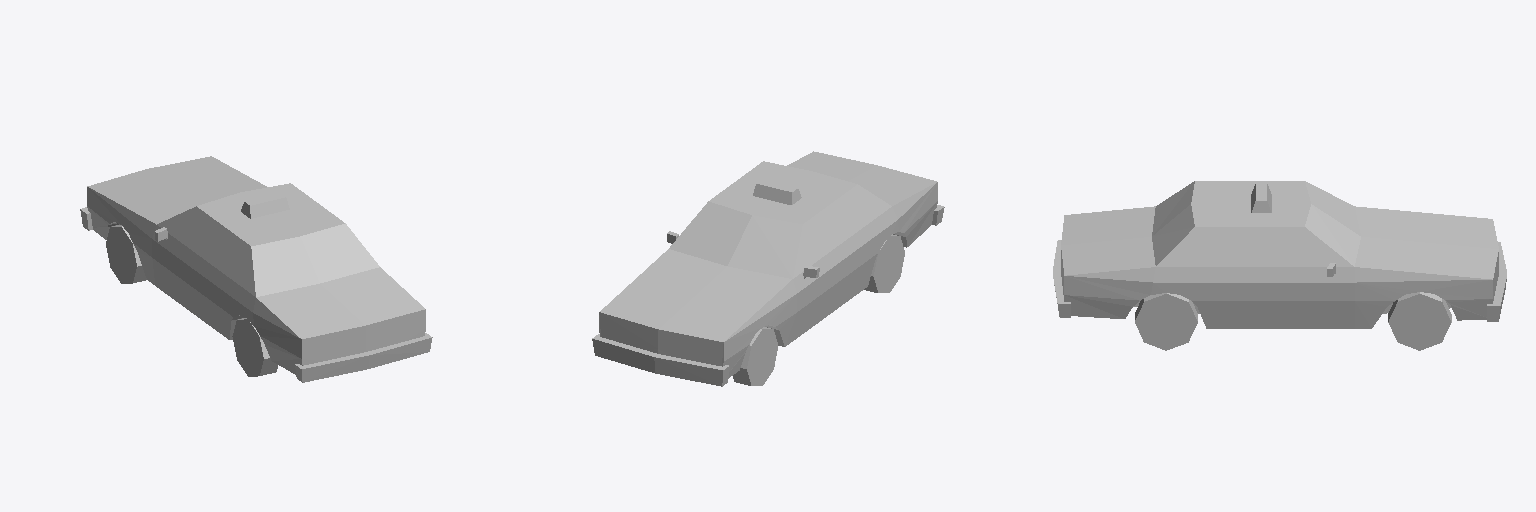
The model's file is Car5Taxi_o3.obj.
The picture shows the model from 3 angles: view 1: azimuth 30°, elevation 25°; view 2: azimuth 150°, elevation 25°; view 3: azimuth 270°, elevation 25°; orthographic projection.
Parts seen in each view (by area): view 1: Car5_Taxi; view 2: Car5_Taxi; view 3: Car5_Taxi.
Part boxes in pixels (x1,y1,x2,y2): Car5_Taxi: (80,156,432,382); Car5_Taxi: (592,151,944,386); Car5_Taxi: (1053,181,1506,350).
Bounding box in the file's own units: 1.32 × 1.06 × 3.46.